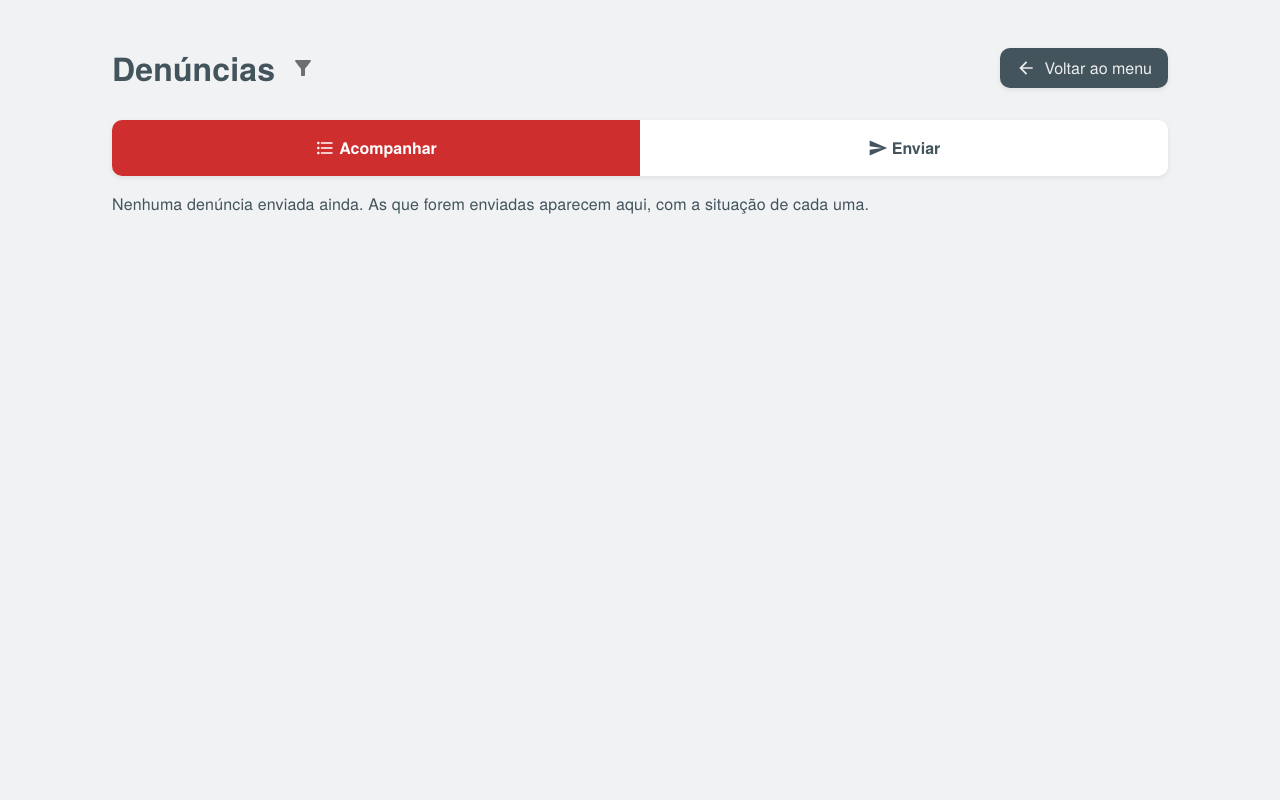
it: Reports › should open the form from the tab, and explain the channel inside it
Check: the heading "Enviar denúncia" is not shown
Click the tab "Enviar": (904, 148) [640,120,1168,176]
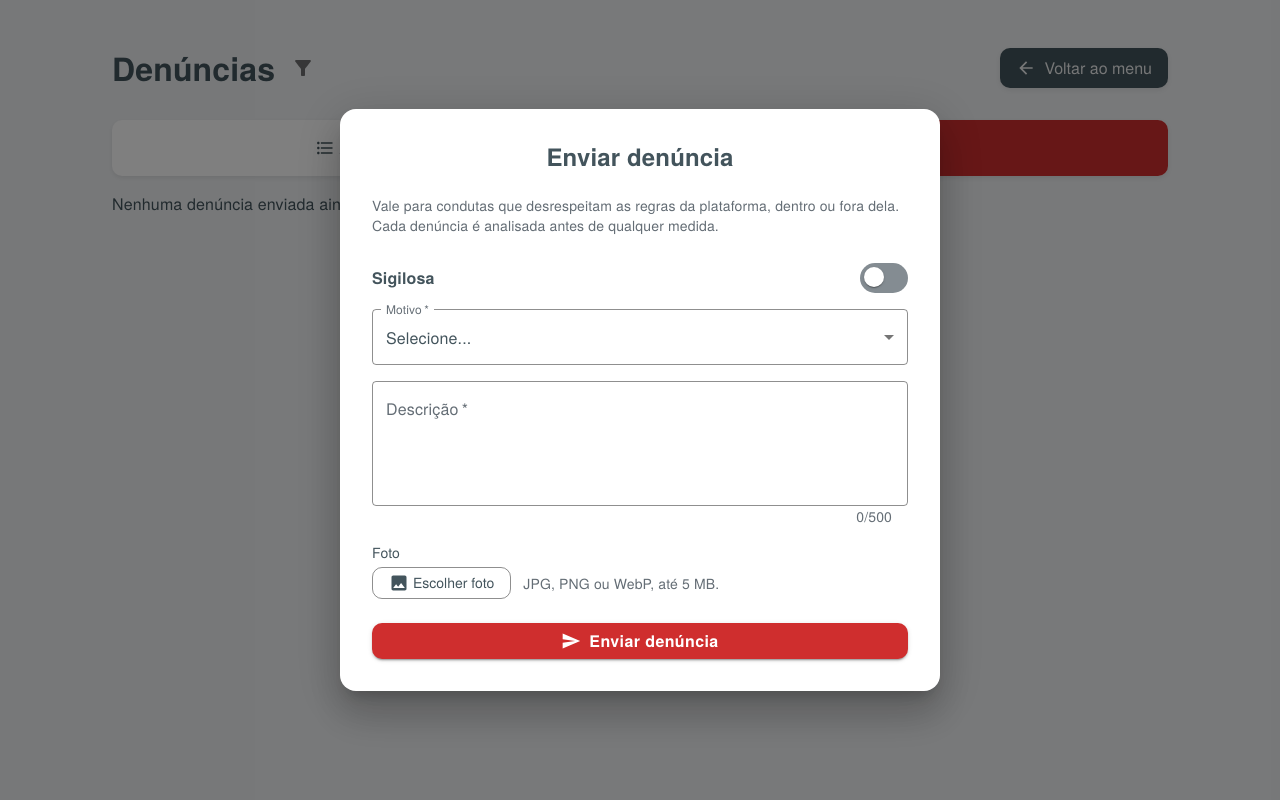
Check: the heading "Enviar denúncia" is shown, box [546,139,734,173]
Check: the text "Vale para condutas que desrespeitam as regras da plataforma, dentro ou fora dela. Cada denúncia é analisada antes de qua" is shown, box [372,196,899,235]
